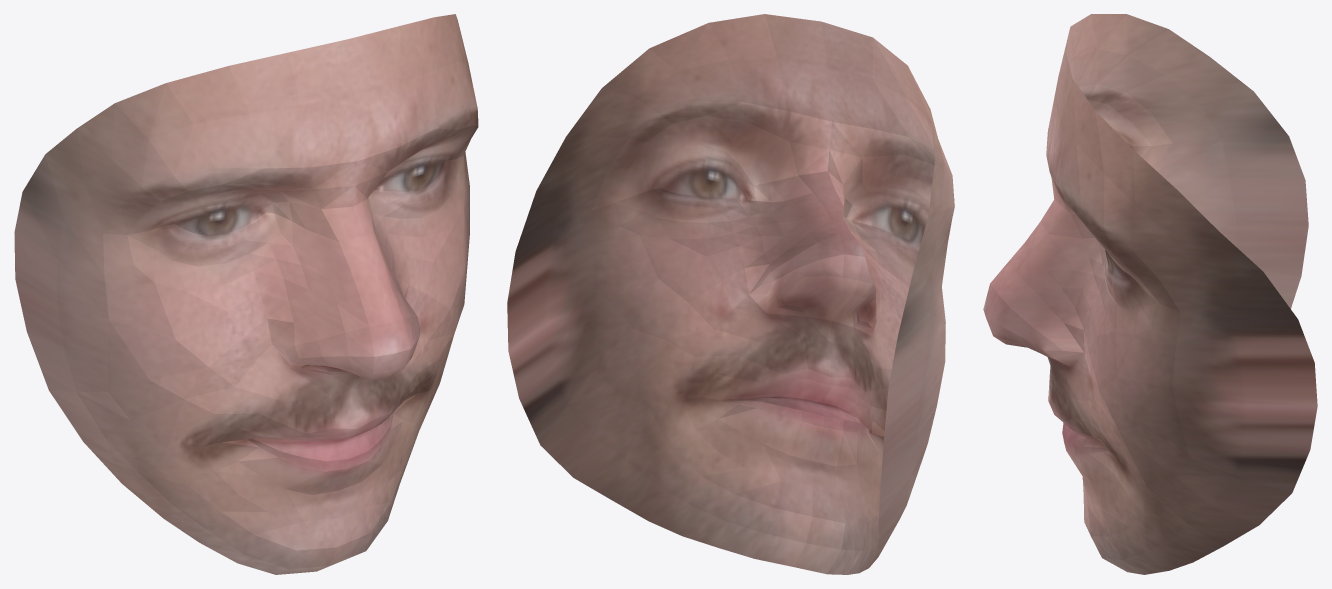
File: visage.glb
3 views of the same model, side by side, from view 1: azimuth 30°, elevation 25°; view 2: azimuth 150°, elevation 25°; view 3: azimuth 270°, elevation 25° (orthographic). The views are drawn at different scales.
Size of the model in its own units: 1.48 by 1.97 by 1.18.
1 material, 1 textured.
